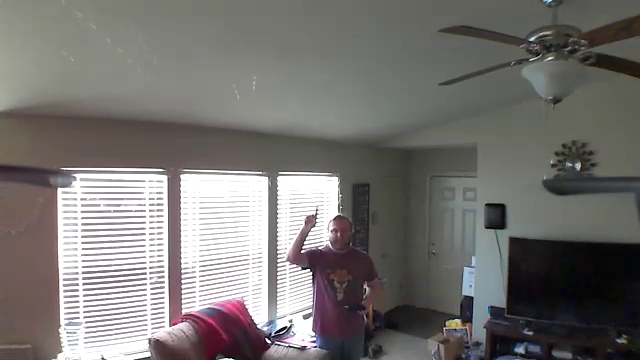up: (302, 205, 323, 233)
